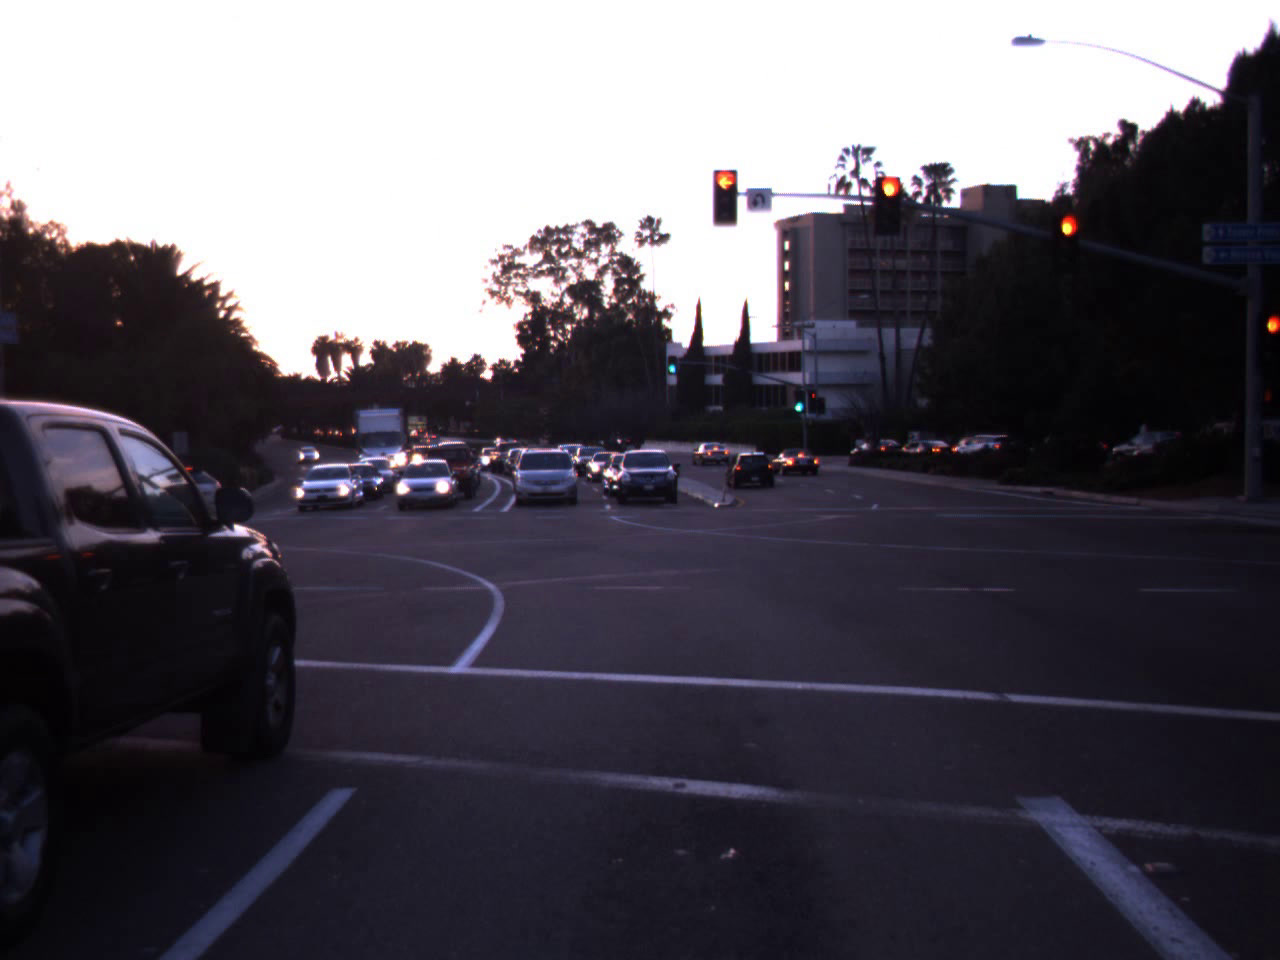go: (792, 379, 807, 414), (666, 352, 678, 372)
stop: (866, 167, 914, 252), (698, 166, 752, 220), (1050, 210, 1089, 282), (1258, 311, 1280, 374)
